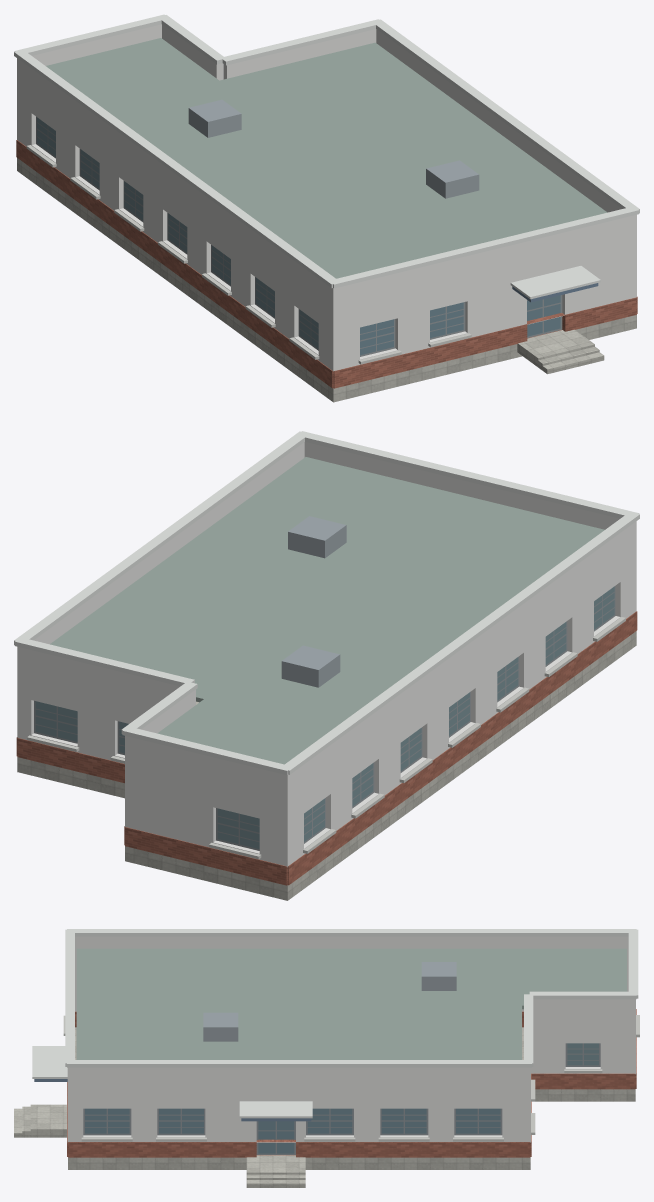
3 renders of one model, top to bottom at view 1: azimuth 30°, elevation 25°; view 2: azimuth 150°, elevation 25°; view 3: azimuth 270°, elevation 25°, orthographic. The views are drawn at different scales.
Parts seen in each view (by area): view 1: dowoom__roof, dowoom__annexwall, dowoom__cap, dowoom__redbrick, dowoom__stone, dowoom__sideglass, dowoom__metalroof, dowoom__glass, dowoom__frame, dowoom__sill, dowoom__stair-south, dowoom__threshold-south; view 2: dowoom__roof, dowoom__annexwall, dowoom__cap, dowoom__redbrick, dowoom__stone, dowoom__sideglass, dowoom__metalroof, dowoom__frame, dowoom__sill; view 3: dowoom__roof, dowoom__annexwall, dowoom__cap, dowoom__redbrick, dowoom__glass, dowoom__stone, dowoom__frame, dowoom__metalroof, dowoom__sill, dowoom__stair-east, dowoom__threshold-south, dowoom__stair-south (+3 smaller).
Part boxes in pixels (left/top/right/bottom): dowoom__roof: left=46, top=38, right=607, bottom=278; dowoom__annexwall: left=17, top=24, right=636, bottom=371; dowoom__cap: left=14, top=14, right=639, bottom=299; dowoom__redbrick: left=16, top=140, right=637, bottom=388; dowoom__stone: left=17, top=158, right=636, bottom=402; dowoom__sideglass: left=37, top=117, right=318, bottom=348; dowoom__metalroof: left=188, top=99, right=479, bottom=198; dowoom__glass: left=360, top=295, right=560, bottom=355; dowoom__frame: left=36, top=116, right=562, bottom=356; dowoom__sill: left=26, top=145, right=471, bottom=364; dowoom__stair-south: left=533, top=341, right=604, bottom=374; dowoom__threshold-south: left=517, top=329, right=589, bottom=363; dowoom__roof: left=50, top=457, right=604, bottom=764; dowoom__annexwall: left=17, top=442, right=636, bottom=867; dowoom__cap: left=14, top=431, right=639, bottom=774; dowoom__redbrick: left=16, top=611, right=637, bottom=885; dowoom__stone: left=17, top=631, right=636, bottom=900; dowoom__sideglass: left=35, top=586, right=614, bottom=849; dowoom__metalroof: left=281, top=516, right=346, bottom=687; dowoom__frame: left=34, top=586, right=615, bottom=850; dowoom__sill: left=27, top=617, right=625, bottom=859; dowoom__roof: left=76, top=948, right=626, bottom=1059; dowoom__annexwall: left=67, top=936, right=635, bottom=1142; dowoom__cap: left=32, top=929, right=638, bottom=1118; dowoom__redbrick: left=67, top=1009, right=636, bottom=1157; dowoom__glass: left=85, top=1108, right=500, bottom=1153; dowoom__stone: left=68, top=1027, right=635, bottom=1169; dowoom__frame: left=83, top=1043, right=600, bottom=1154; dowoom__metalroof: left=203, top=962, right=456, bottom=1041; dowoom__sill: left=63, top=1015, right=639, bottom=1141; dowoom__stair-east: left=246, top=1169, right=305, bottom=1187; dowoom__threshold-south: left=39, top=1104, right=66, bottom=1137; dowoom__stair-south: left=14, top=1104, right=38, bottom=1137.
Bounding box in the file's own units: 17.07 × 5.41 × 28.67.
Materials: 11 (2 with a texture image).
